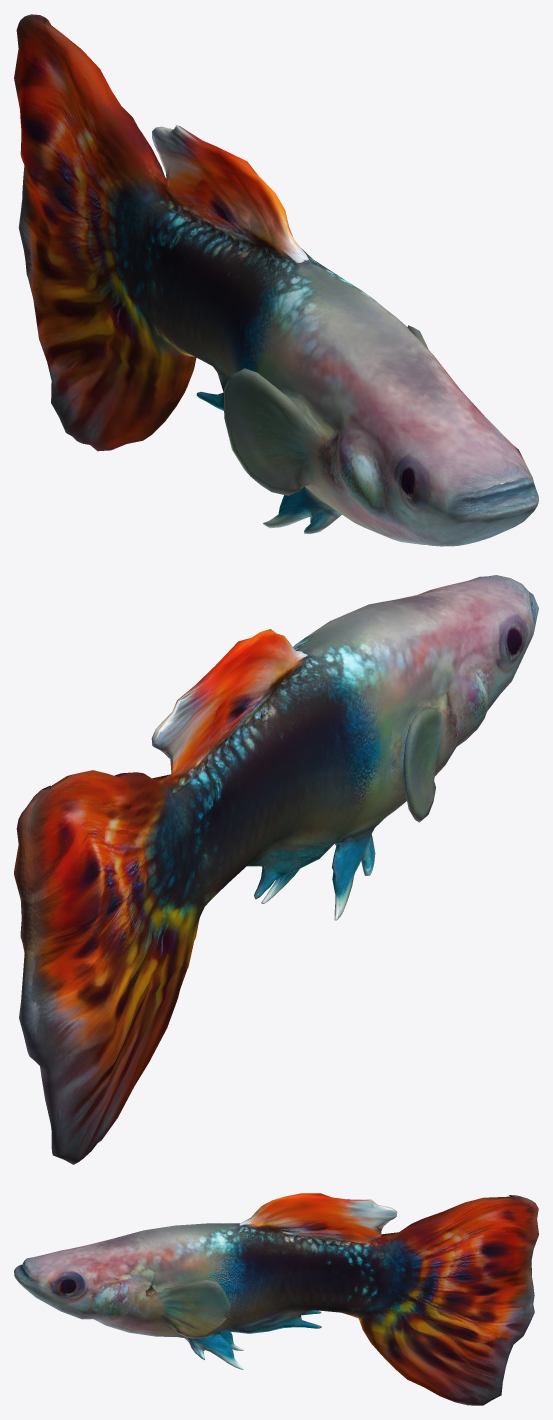
File: guppy_platinum_tuxedo_red_mosaic_mesh.glb
3 renders of one model, top to bottom at view 1: azimuth 30°, elevation 25°; view 2: azimuth 150°, elevation 25°; view 3: azimuth 270°, elevation 25°, orthographic. The views are drawn at different scales.
Bounding box in the file's own units: 0.4202 × 0.8469 × 1.9.
Materials: 1 (1 with a texture image).
